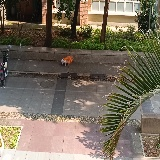fire: (63, 55, 73, 63)
